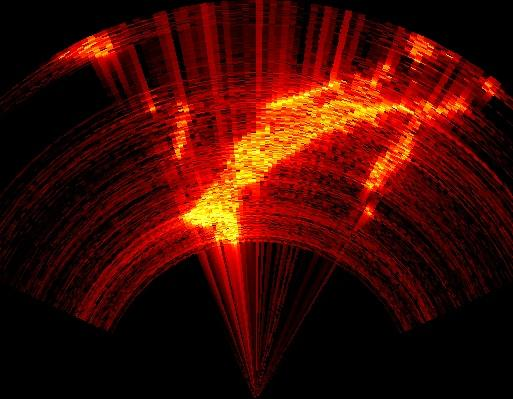shipwreck: (180, 59, 467, 243), (58, 34, 113, 58), (174, 103, 188, 159), (410, 37, 433, 70)
